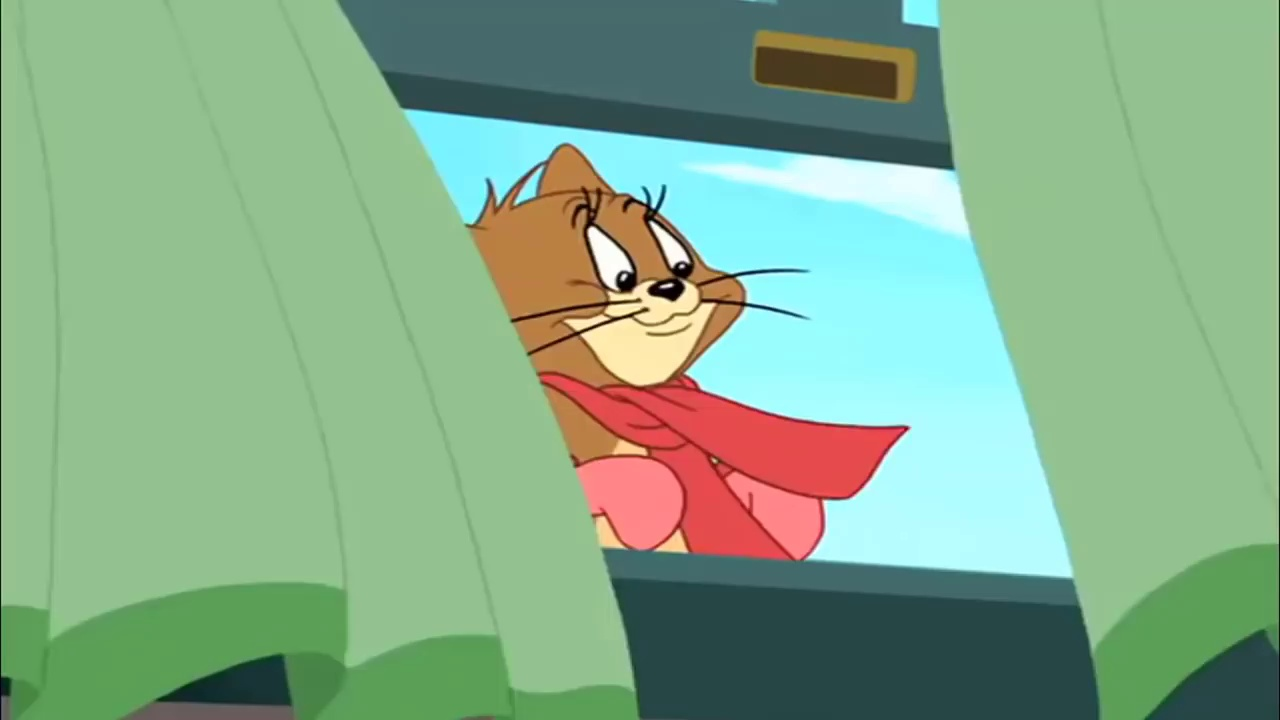face: (543, 197, 747, 389)
